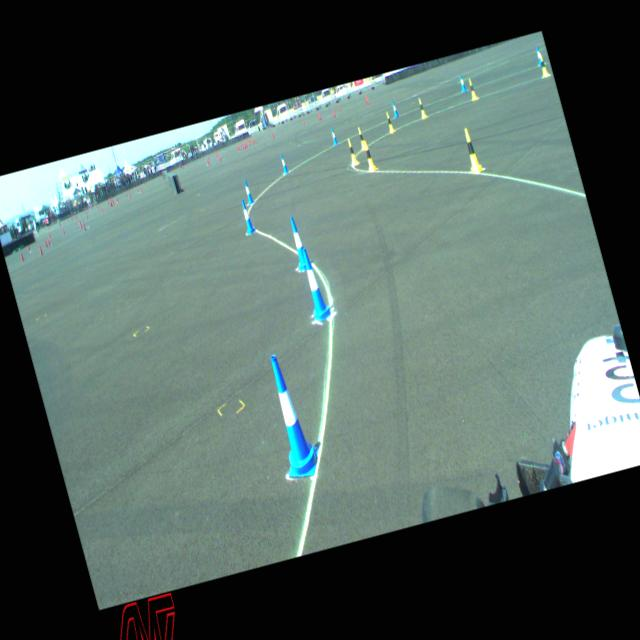blue_cone: (258, 350, 322, 481), (296, 246, 332, 321), (286, 215, 312, 270), (238, 198, 256, 234), (242, 179, 254, 203), (534, 46, 545, 66), (458, 73, 468, 92), (329, 126, 338, 144), (280, 154, 288, 174), (391, 100, 398, 117)
yellow_cone: (460, 126, 482, 172), (361, 140, 376, 170), (345, 137, 359, 165), (356, 126, 368, 150), (536, 54, 548, 76), (467, 78, 478, 100), (416, 97, 426, 118), (384, 111, 394, 132)
